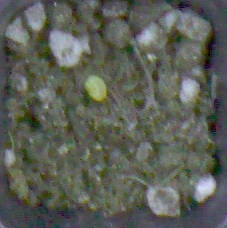pepper seed: (28, 23, 138, 126)
